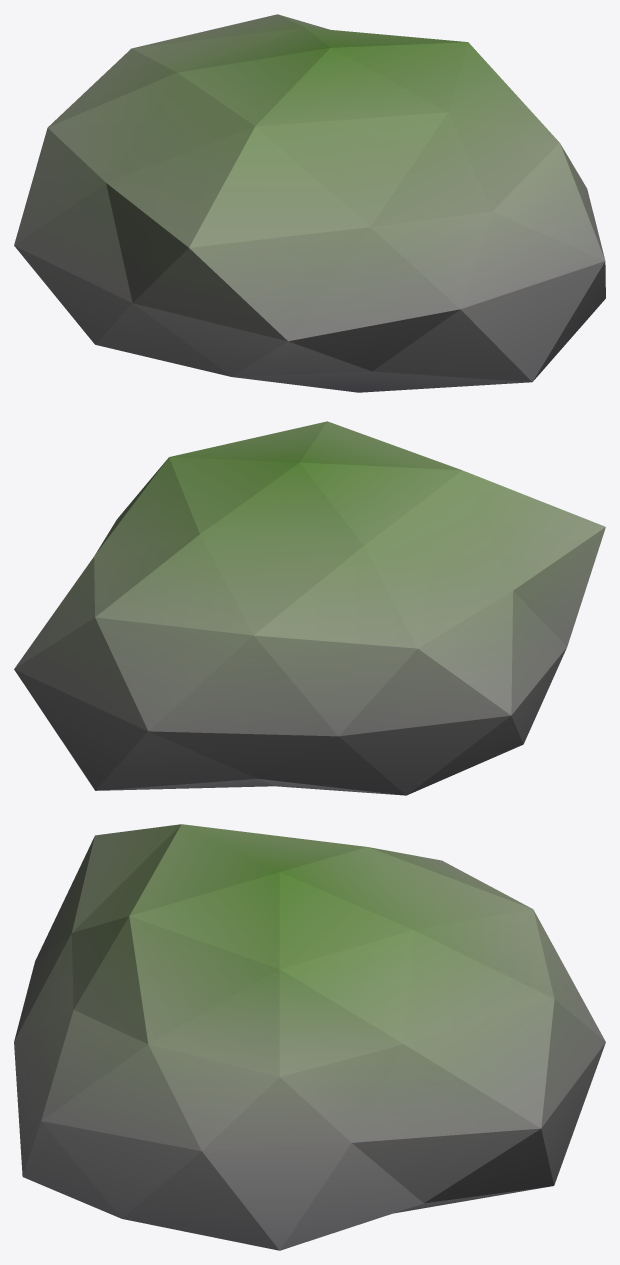
The model's file is f_rock0.glb.
3 renders of one model, top to bottom at view 1: azimuth 30°, elevation 25°; view 2: azimuth 150°, elevation 25°; view 3: azimuth 270°, elevation 25°, orthographic. The views are drawn at different scales.
Parts seen in each view (by area): view 1: rock0; view 2: rock0; view 3: rock0.
Part boxes in pixels (bbox=[...]): rock0: bbox=[14, 14, 605, 392]; rock0: bbox=[14, 421, 605, 795]; rock0: bbox=[14, 824, 605, 1250].
Size of the model in its own units: 1.3 by 0.6949 by 1.29.
